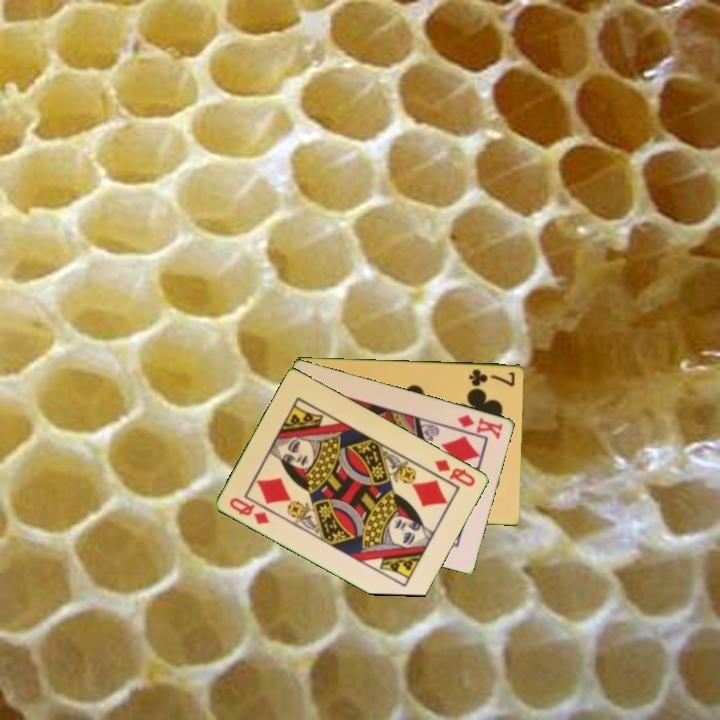7c: (465, 365, 518, 389)
Kd: (454, 411, 506, 442)
Qd: (431, 455, 478, 490), (226, 494, 273, 527)
